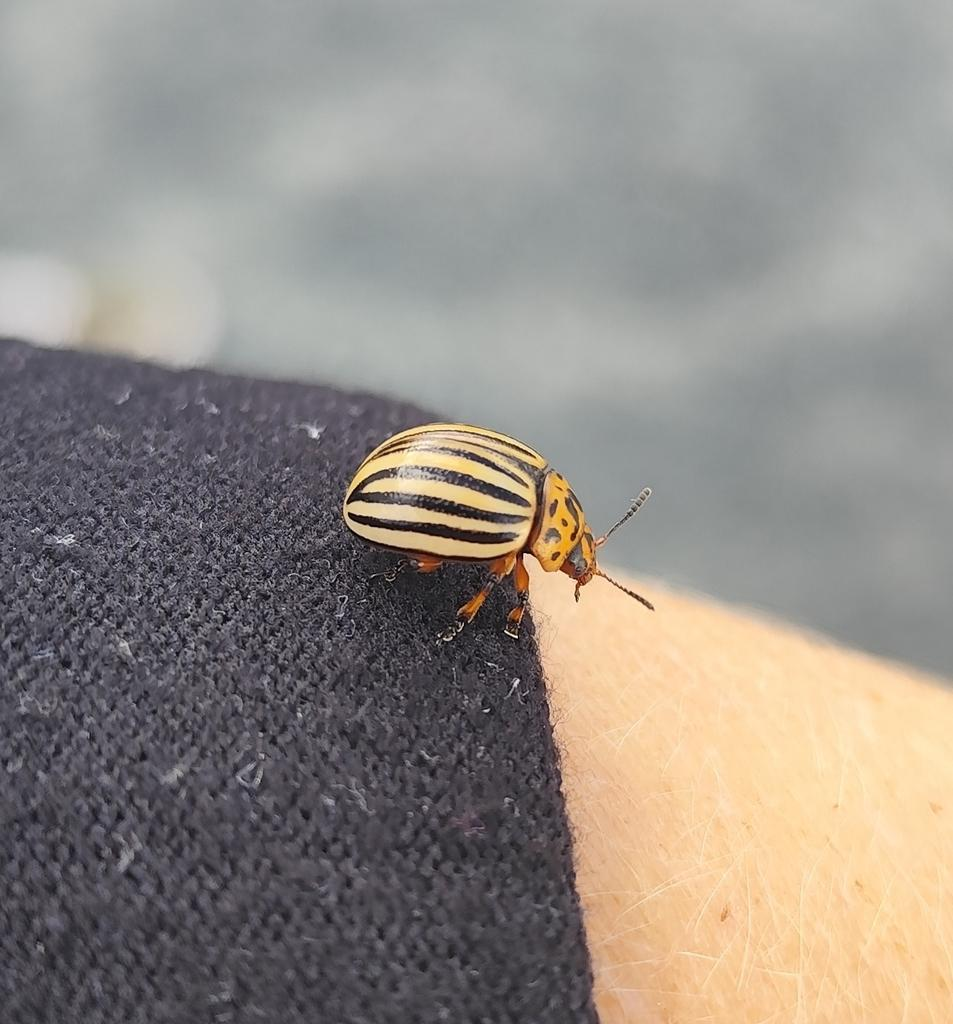potato_beetle: (304, 365, 699, 689)
